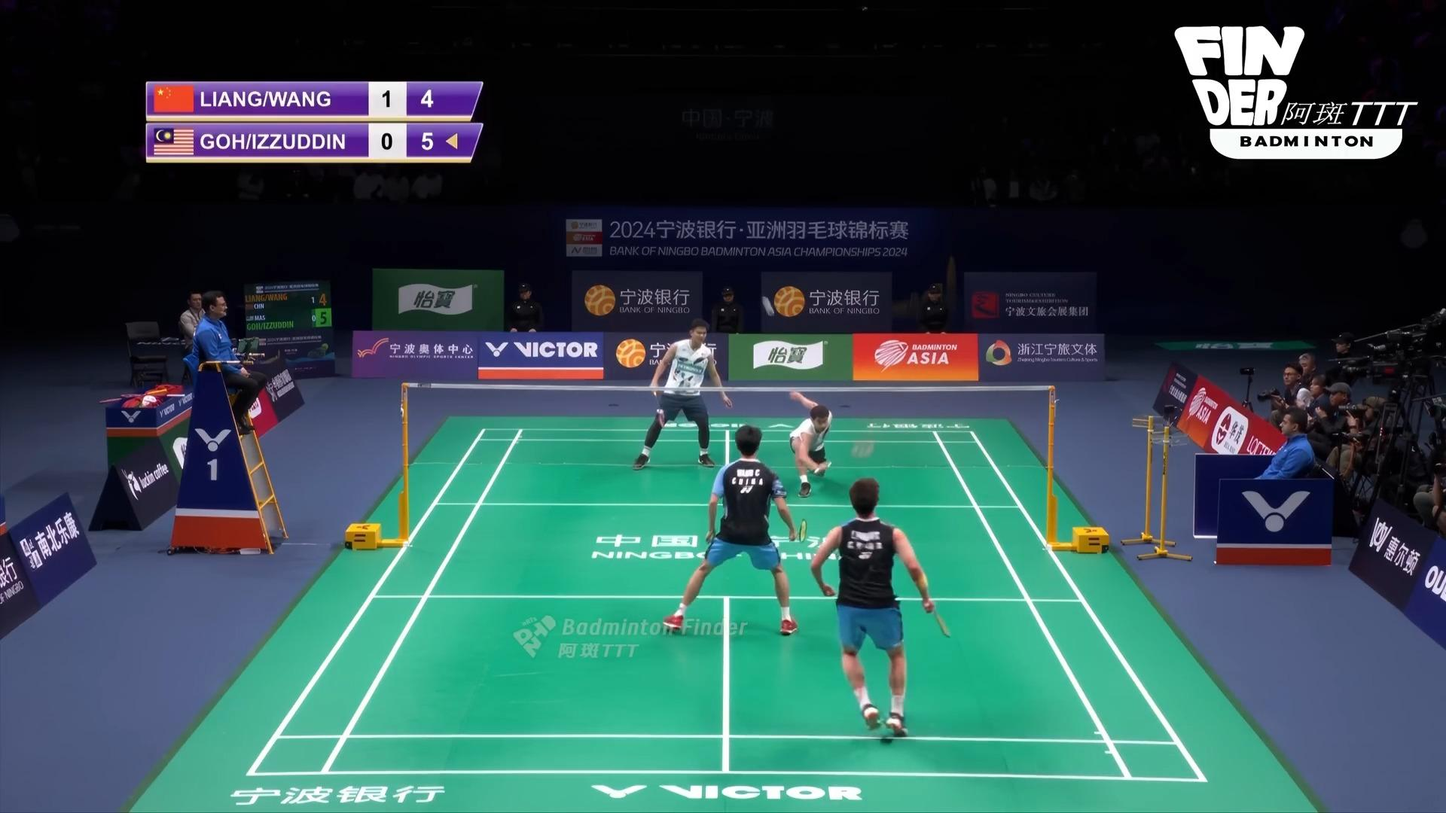player: (812, 477, 935, 738), (663, 425, 798, 637), (633, 318, 732, 470), (787, 386, 834, 498)
shuttlecock: (761, 294, 776, 317)
